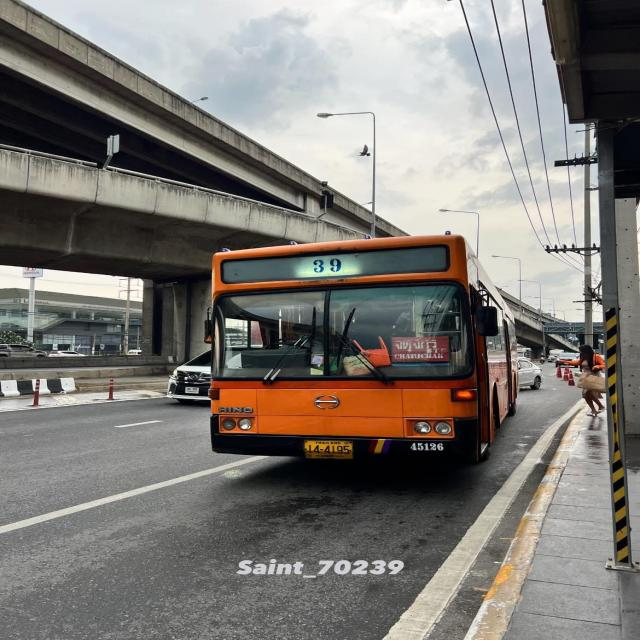BMTA-bus: (208, 235, 518, 471)
Bus-Line-Number: (306, 256, 348, 274)
Destination-Sign-Extra-Bus: (391, 337, 451, 362)
